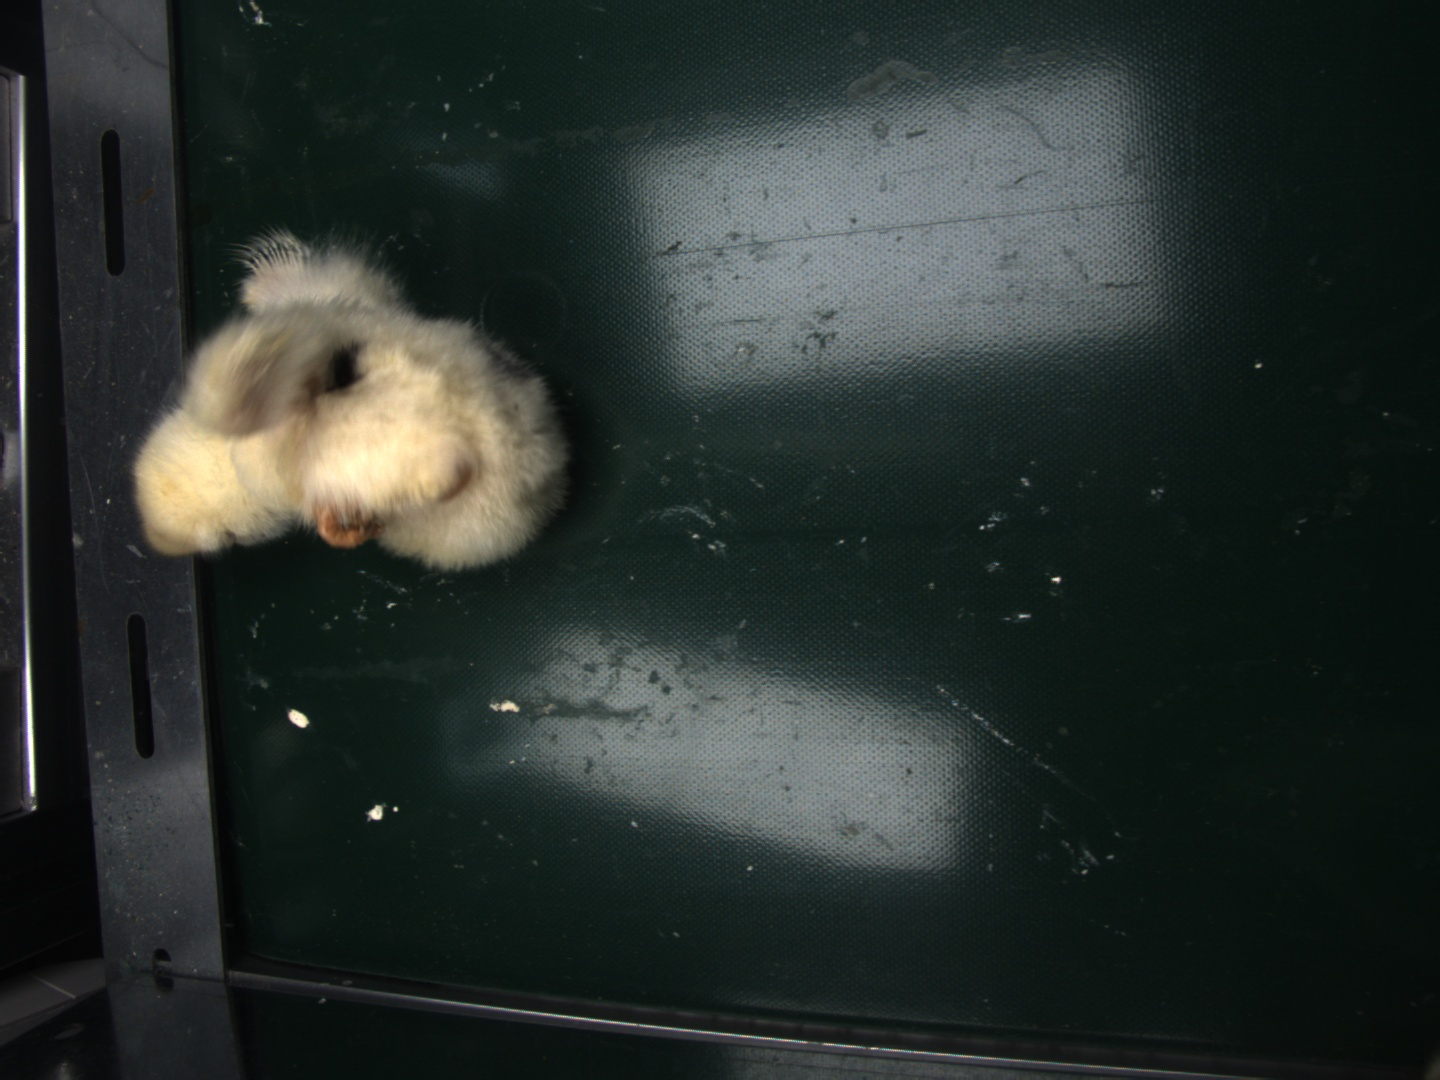male: (244, 237, 307, 284)
